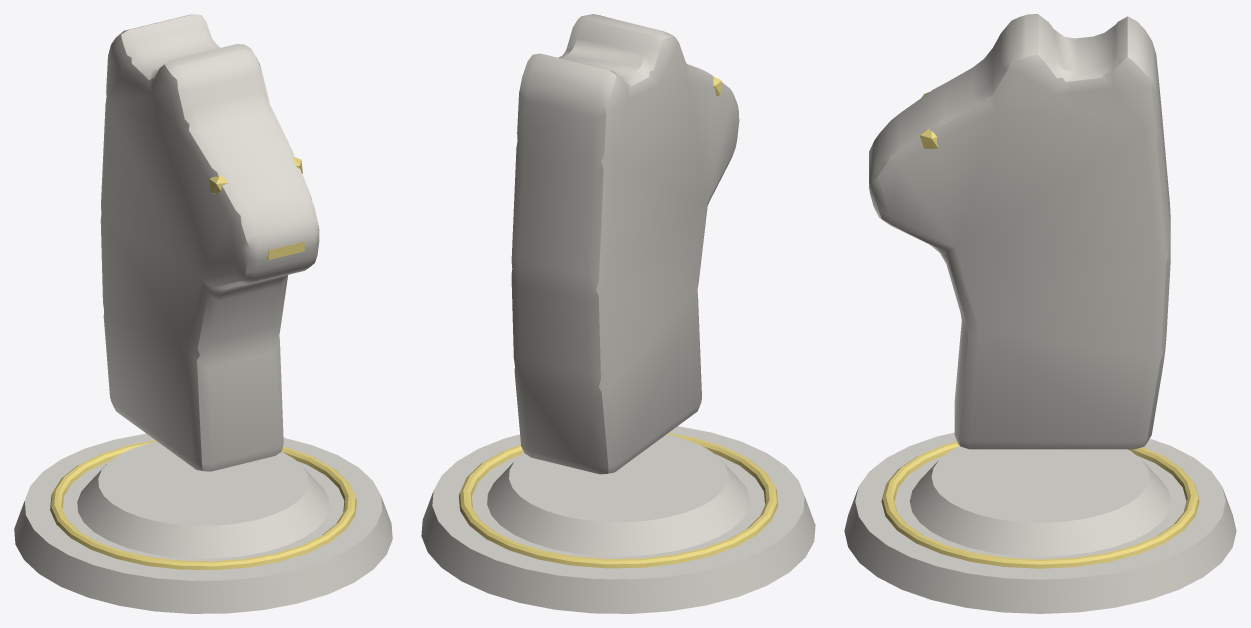
The model's file is MuseoDelOro_Caballo.fbx.
The picture shows the model from 3 angles, left to right: view 1: azimuth 30°, elevation 25°; view 2: azimuth 150°, elevation 25°; view 3: azimuth 270°, elevation 25°; orthographic projection. The views are drawn at different scales.
Parts seen in each view (by area): view 1: MuseoDelOro_Caballo; view 2: MuseoDelOro_Caballo; view 3: MuseoDelOro_Caballo.
Part boxes in pixels (<box>): MuseoDelOro_Caballo: <box>14,14,392,613</box>; MuseoDelOro_Caballo: <box>421,14,815,613</box>; MuseoDelOro_Caballo: <box>844,14,1236,613</box>.
Size of the model in its own units: 0.72 by 1.01 by 0.72.
